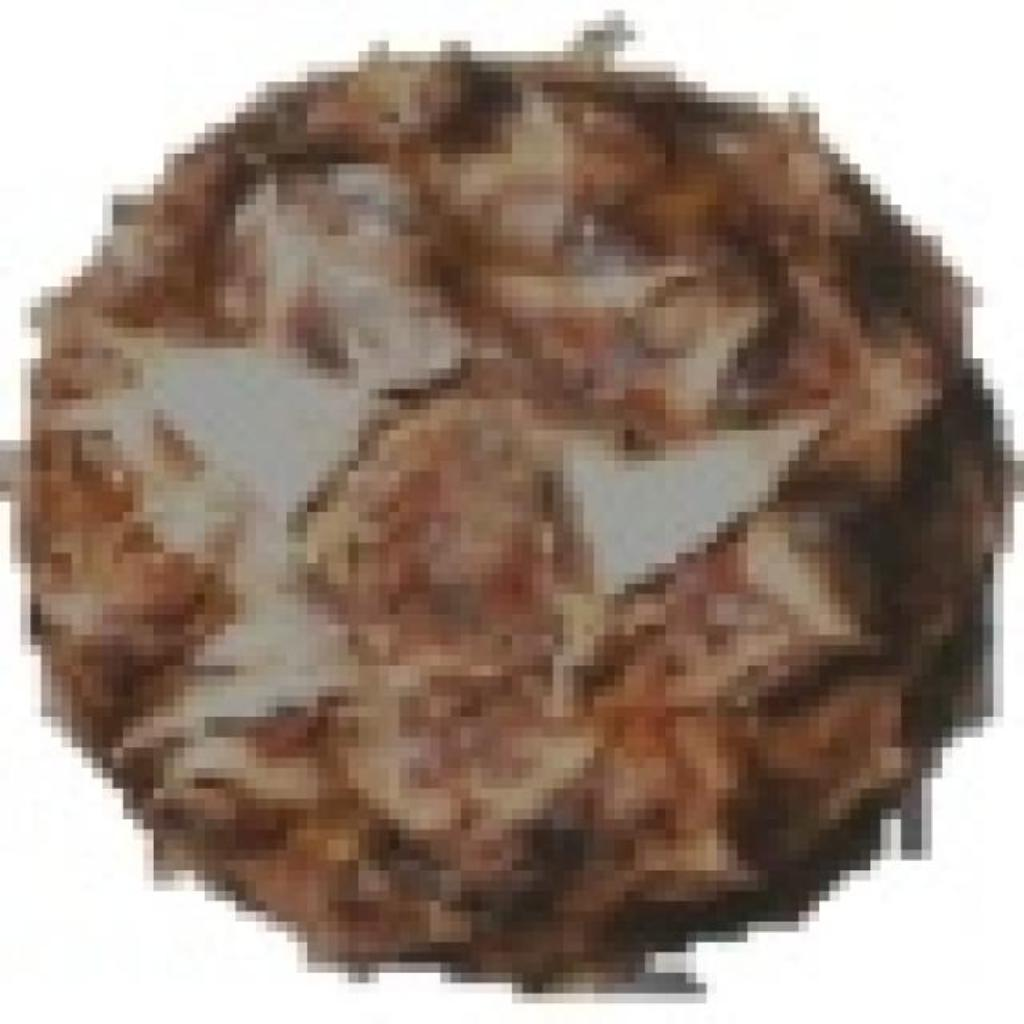pineapple: (10, 20, 983, 963)
